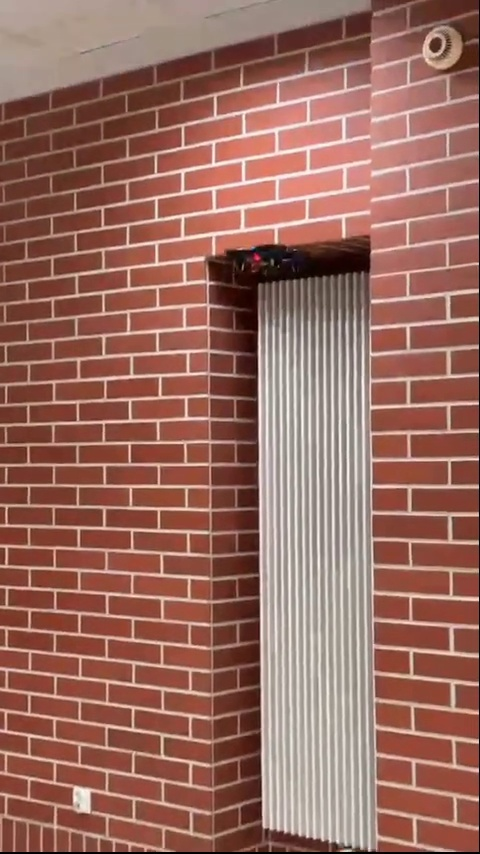drone: (230, 241, 305, 285)
